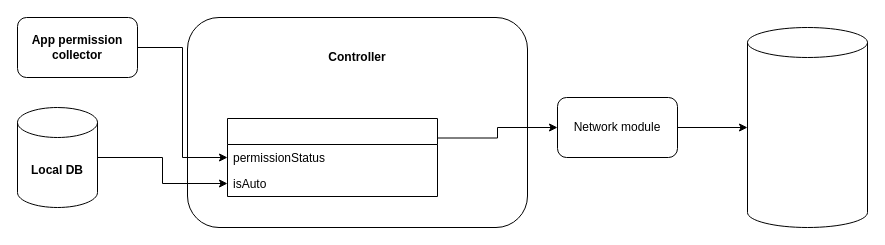
The diagram is 885 pixels wide and 245 high, and some of its shapes have lost their labels. The shapes that lost their labels are listed below. From the top down, each one's box as (x1, y1, x2, y2) in pixels, then its label:
(746, 26, 868, 228): Server
(226, 118, 438, 196): App permission status list
